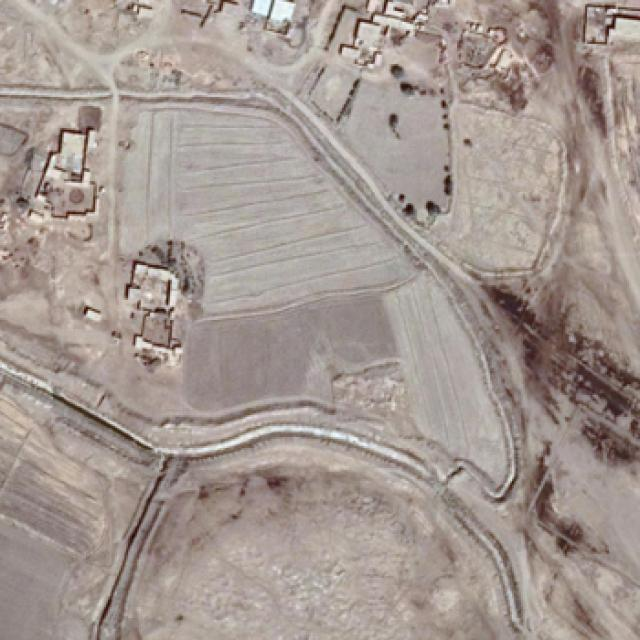artifacts: (454, 2, 552, 91), (366, 0, 446, 44), (338, 17, 386, 68)
ruins: (443, 104, 564, 274), (3, 96, 114, 242), (182, 157, 348, 245), (197, 318, 312, 402), (138, 36, 282, 94), (127, 238, 206, 304)
